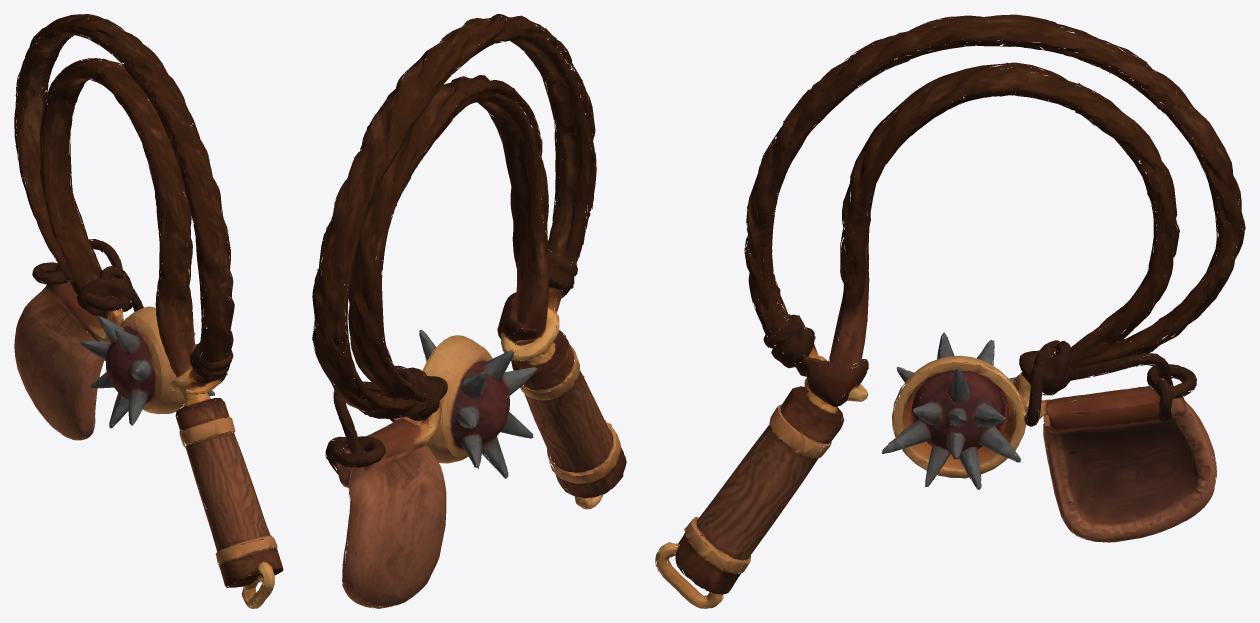
File: barb_sling.glb
3 views of the same model, side by side, from view 1: azimuth 30°, elevation 25°; view 2: azimuth 150°, elevation 25°; view 3: azimuth 270°, elevation 25° (orthographic). The views are drawn at different scales.
Parts seen in each view (by area): view 1: body; view 2: body; view 3: body.
Part boxes in pixels (<box>): body: <box>14,14,283,608</box>; body: <box>312,14,626,608</box>; body: <box>655,14,1245,608</box>.
Bounding box in the file's own units: 0.0628 × 0.3258 × 0.2986.
1 material, 1 textured.
